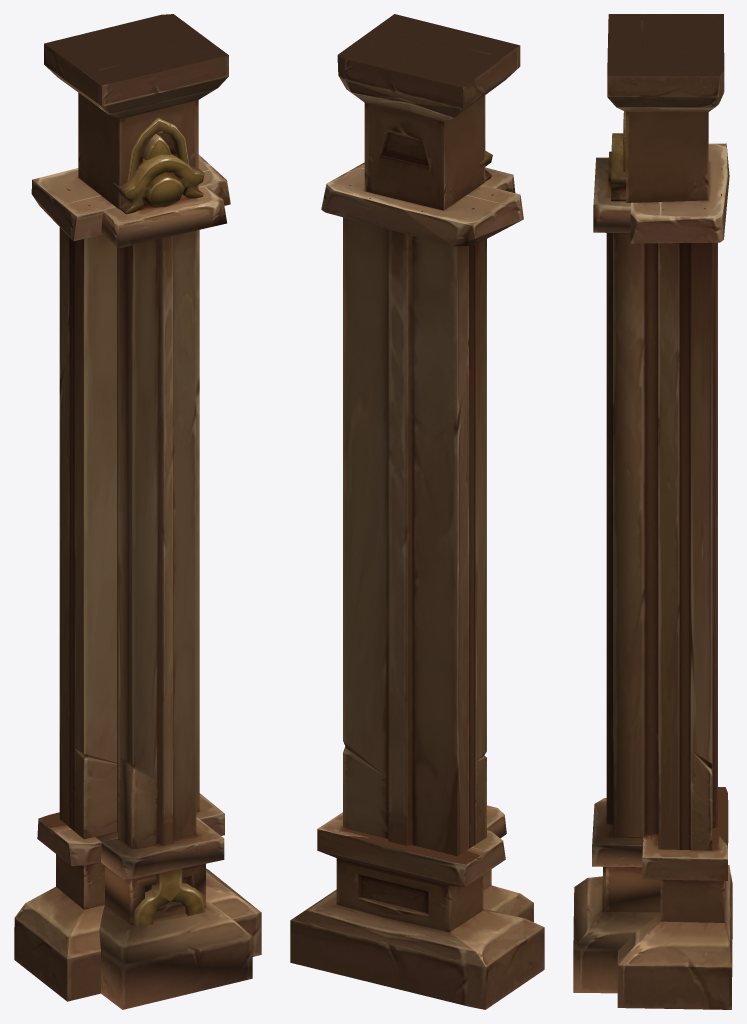
The model's file is Zhuzi(1).FBX.
3 renders of one model, left to right at view 1: azimuth 30°, elevation 25°; view 2: azimuth 150°, elevation 25°; view 3: azimuth 270°, elevation 25°, orthographic.
Visible parts, largest first — view 1: Zhuzi; view 2: Zhuzi; view 3: Zhuzi.
Part boxes in pixels (box(x1,y1,x2,y2)): Zhuzi: box(14, 14, 261, 1009); Zhuzi: box(290, 14, 544, 1009); Zhuzi: box(573, 14, 732, 1009).
Size of the model in its own units: 453 by 1996 by 315.
